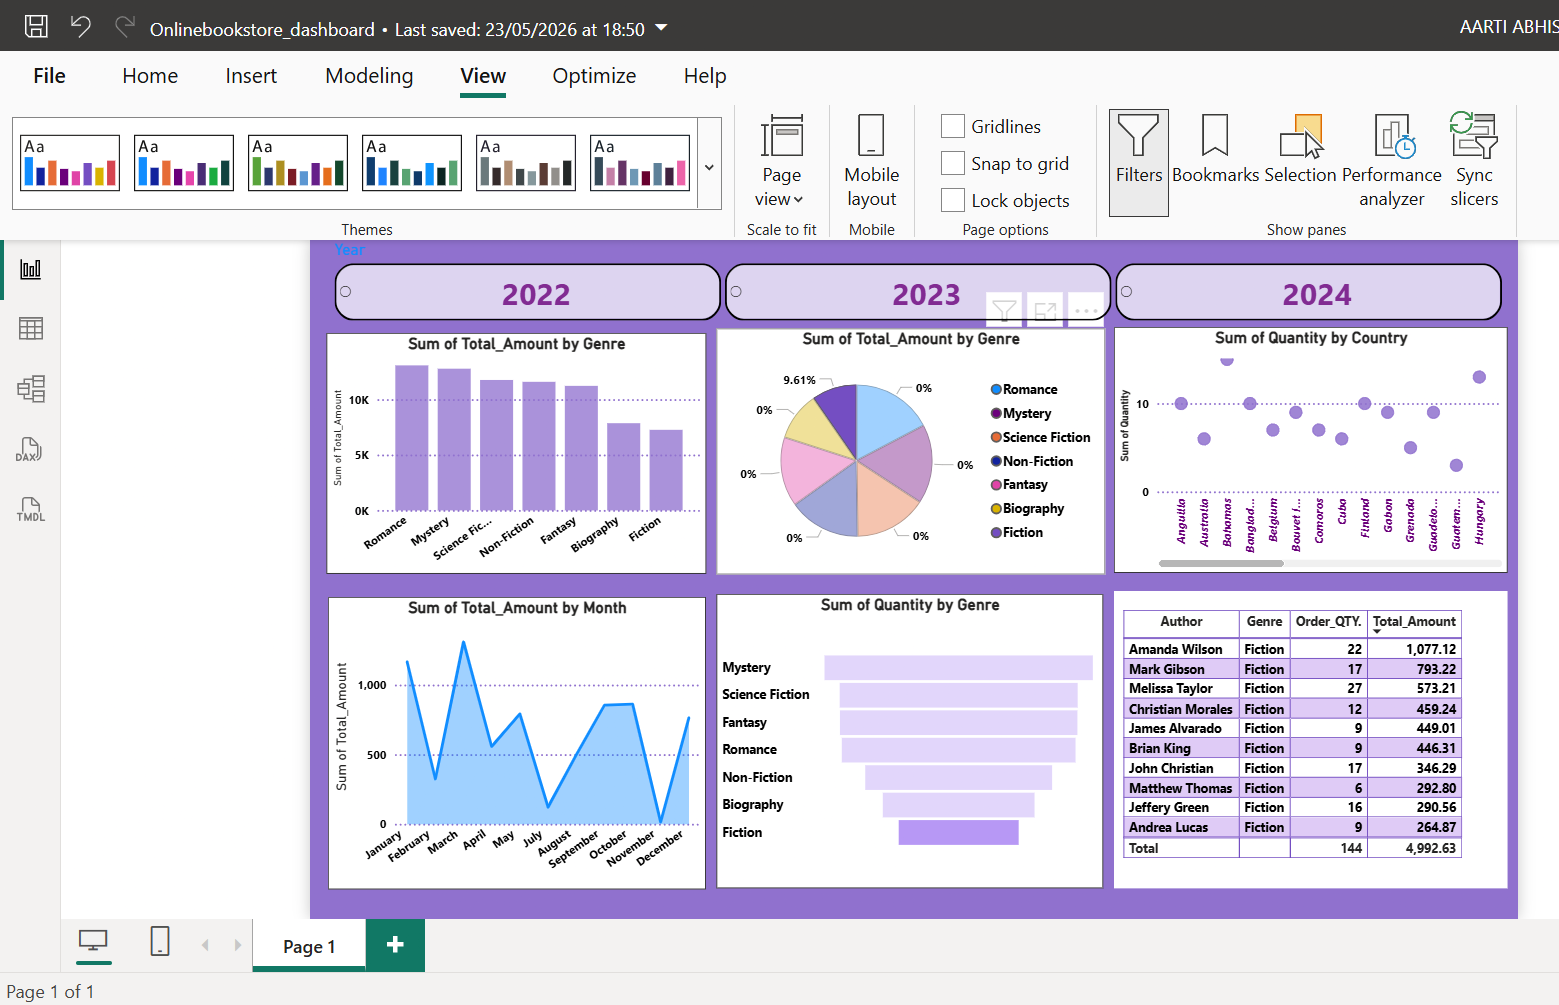

The page's visual inventory and layout, read from the dashboard file:
{"tool":"powerbi","page":{"name":"Page 1","canvas":[1280,720],"ordinal":0},"visuals":[{"type":"columnChart","fields":{"Category":["Books.Genre"],"Y":["Sum(Orders.Total_Amount)"]},"box":[17,98.3,402.5,255.1],"z":0},{"type":"lineChart","fields":{"Category":["Orders.Order_Date.Variation.Date Hierarchy.Month"],"Y":["Sum(Orders.Total_Amount)"]},"box":[18.9,378,400.6,309.9],"z":1000},{"type":"pieChart","fields":{"Category":["Books.Genre"],"Y":["Sum(Orders.Total_Amount)"]},"box":[430.9,94.5,412,260.8],"z":2000},{"type":"funnel","fields":{"Category":["Books.Genre"],"Y":["Sum(Orders.Quantity)"]},"box":[430.9,376.1,410.1,311.8],"z":3000},{"type":"tableEx","fields":{"Values":["Books.Author","Books.Genre","Sum(Orders.Quantity)","Sum(Orders.Total_Amount)"]},"box":[852.3,372.3,417.6,315.6],"z":4000},{"type":"scatterChart","fields":{"X":["Customers.Country"],"Y":["Sum(Orders.Quantity)"]},"box":[852.3,92.6,417.6,260.8],"z":5000},{"type":"advancedSlicerVisual","fields":{"Values":["Orders.Order_Date.Variation.Date Hierarchy.Year"]},"box":[20.8,0,1249.1,98.3],"z":6000}]}

Visuals, with their boxes on the page's 1280x720 design canvas (x1, y1, x2, y2). These are canvas units, not pixel positions in the 1559x1005 screenshot, which may show the page scaled, cropped or inside an application window:
columnChart - Books.Genre x Sum(Orders.Total_Amount): [17, 98, 420, 353]
lineChart - Orders.Order_Date.Variation.Date Hierarchy.Month x Sum(Orders.Total_Amount): [19, 378, 420, 688]
pieChart - Books.Genre x Sum(Orders.Total_Amount): [431, 94, 843, 355]
funnel - Books.Genre x Sum(Orders.Quantity): [431, 376, 841, 688]
tableEx - Books.Author x Books.Genre: [852, 372, 1270, 688]
scatterChart - Customers.Country x Sum(Orders.Quantity): [852, 93, 1270, 353]
advancedSlicerVisual - Orders.Order_Date.Variation.Date Hierarchy.Year: [21, 0, 1270, 98]
